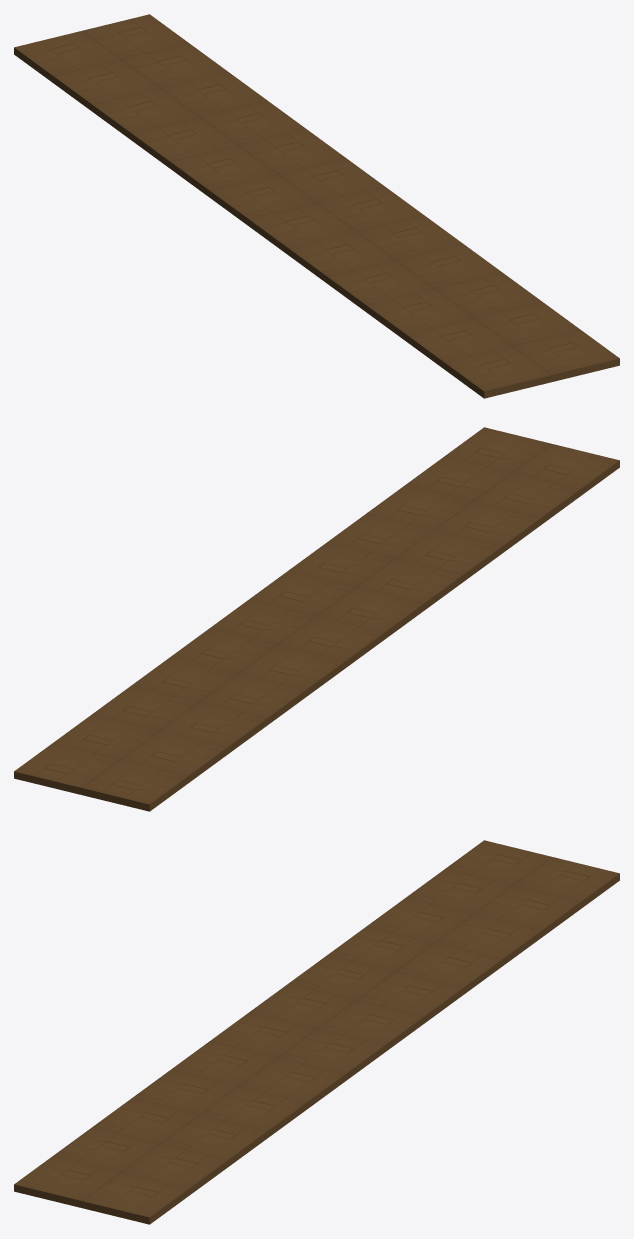
File: Strada_2x12.glb
The picture shows the model from 3 angles, top to bottom: view 1: azimuth 30°, elevation 25°; view 2: azimuth 150°, elevation 25°; view 3: azimuth 330°, elevation 25°; orthographic projection.
Parts seen in each view (by area): view 1: Cube.003; view 2: Cube.003; view 3: Cube.003.
Boxes of the visible parts, x1=… form: Cube.003: x1=14, y1=14, x2=619, y2=398; Cube.003: x1=14, y1=427, x2=619, y2=811; Cube.003: x1=14, y1=840, x2=619, y2=1224.
Bounding box in the file's own units: 4 × 0.2 × 24.
Materials: 1 (1 with a texture image).
